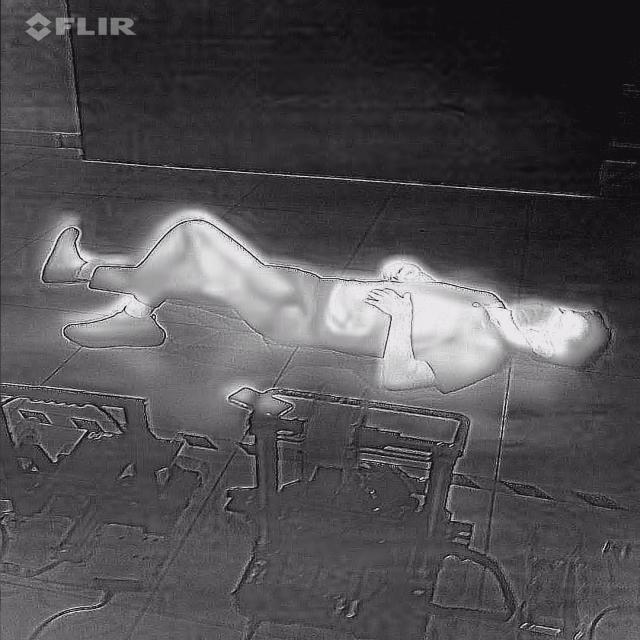Victim: (26, 210, 617, 398)
